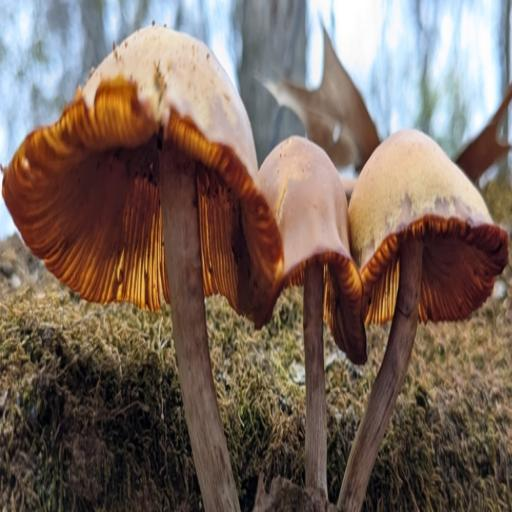mushroom: (3, 16, 512, 377)
